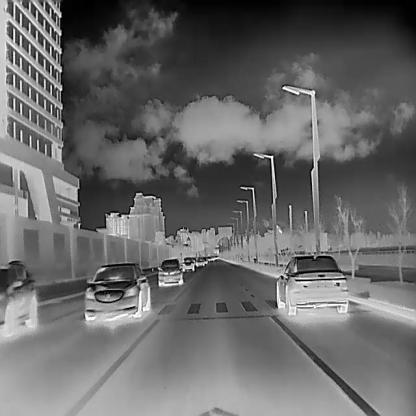car: (275, 254, 348, 314), (84, 261, 149, 320), (0, 258, 36, 336), (157, 258, 183, 286), (180, 256, 194, 270), (195, 256, 205, 265), (205, 254, 212, 260), (212, 254, 218, 258)
